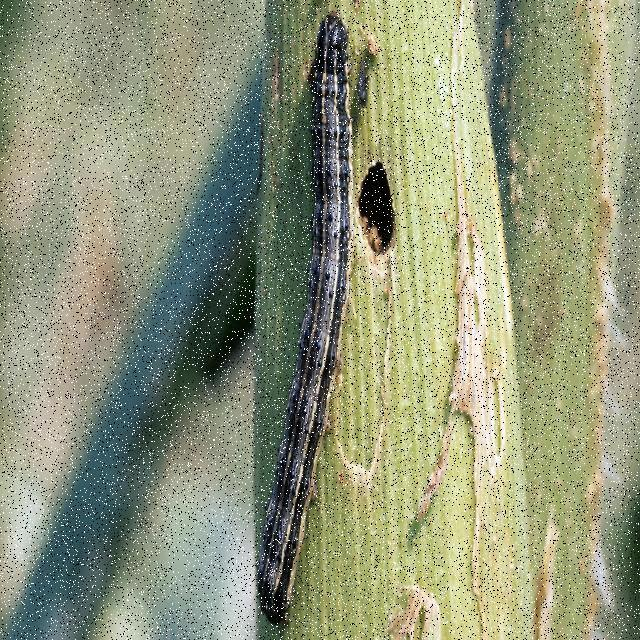army worm: (242, 22, 418, 634)
